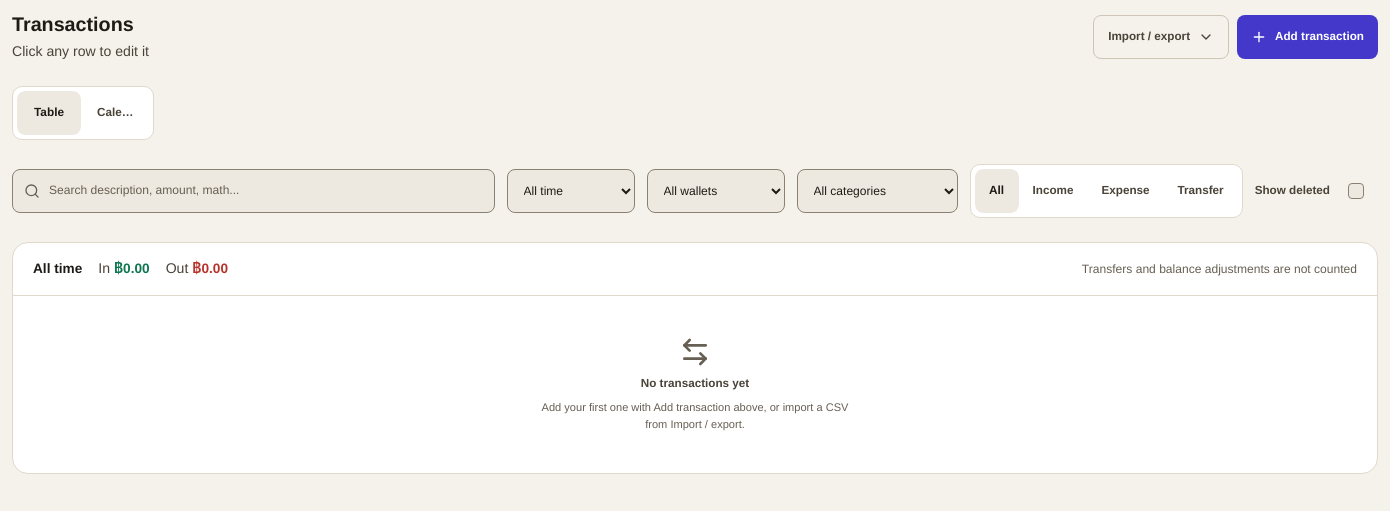
Test case: an empty list says why it is empty (Phase 65, ADR 0041) › only deleted rows count as no transaction: the first-run copy, until Show deleted lists them
Expected: the text "No transactions yet" is shown, x1=641 y1=376 x2=749 y2=392
Click the checkbox labelled "Show deleted" at (1292, 191), box x1=1255 y1=183 x2=1330 y2=199
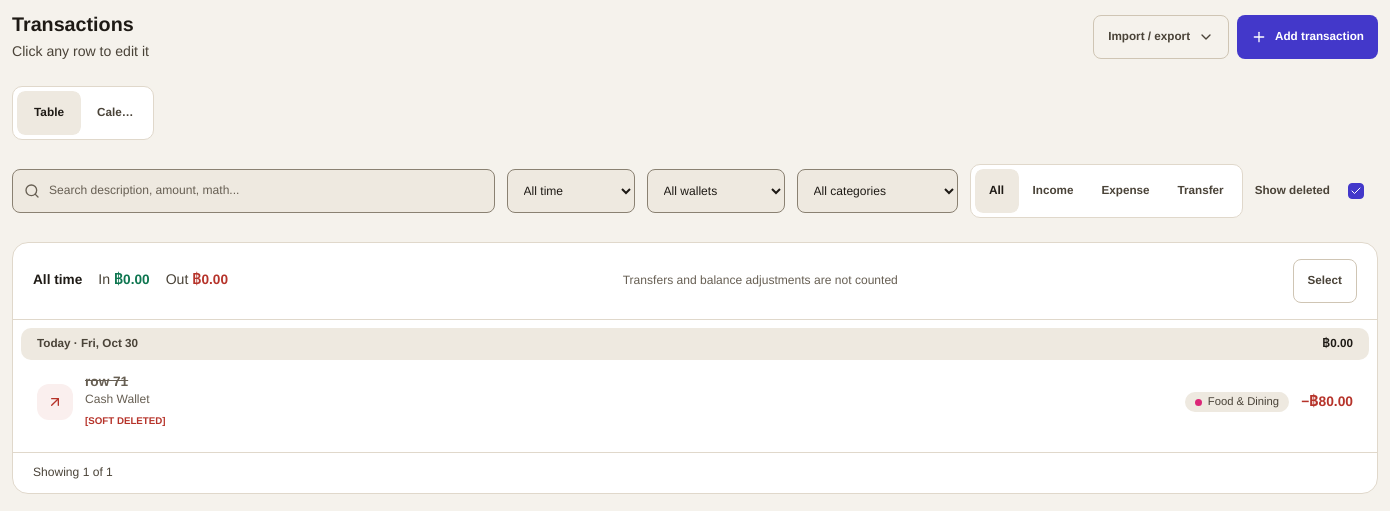
Result: the text "No transactions yet" is gone
